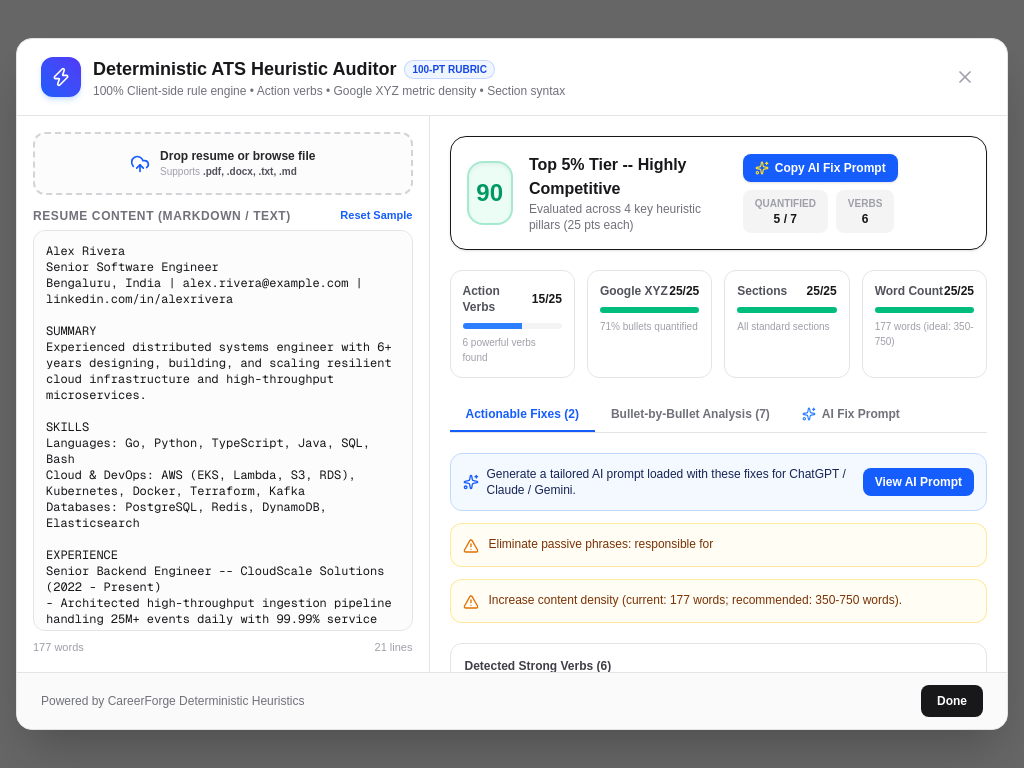
Test: AtsAuditModal Component › should switch to AI Fix Prompt tab and display generated prompt
The image size is (1024, 768).
Click the button "AI Fix Prompt".
click(851, 415)  # box [786, 398, 916, 432]
(page scrolled)
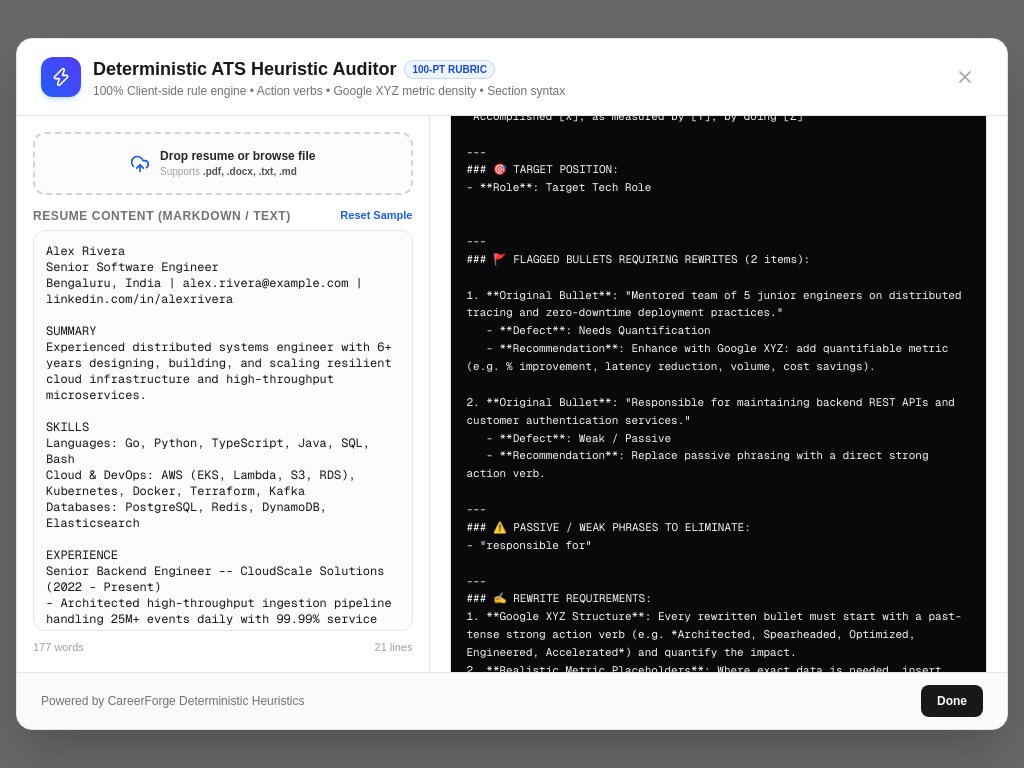
Now the text "You are a Principal Tech Recruiter" is shown, box [466, 116, 975, 672]
